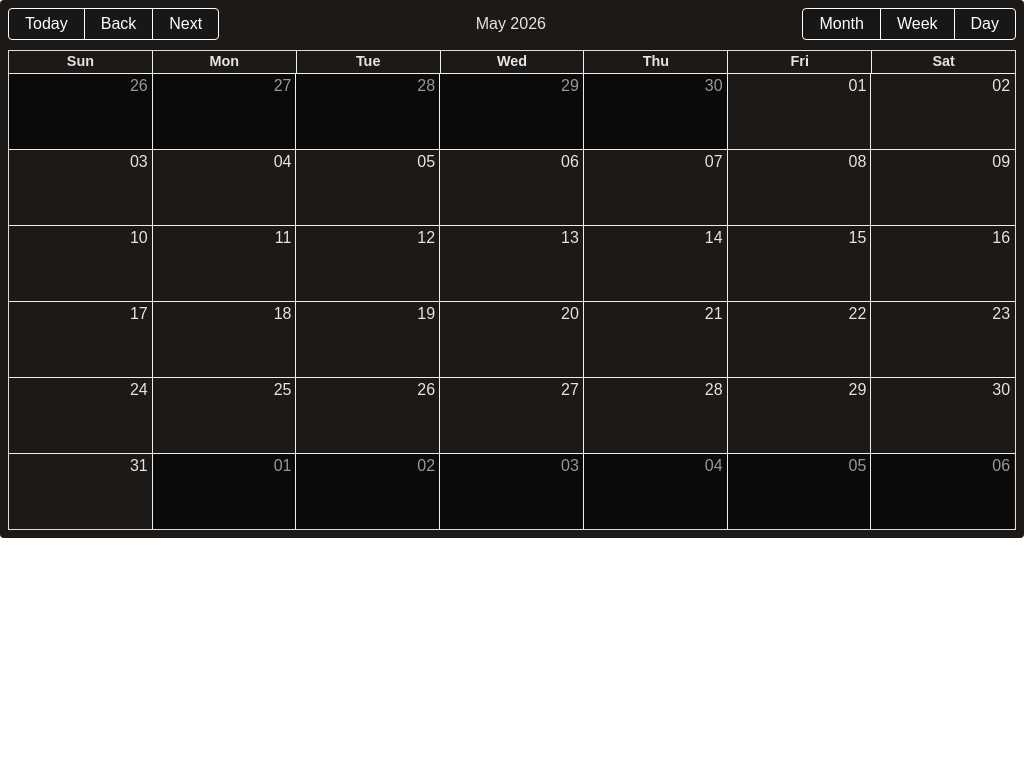
Test: MaintenanceCalendar › navigates months and changes view under Strict Mode
Expected: the text "May 2026" is shown, [476,15,546,32]
Click the button "Next". click: (186, 24)
box: [152,8,219,40]
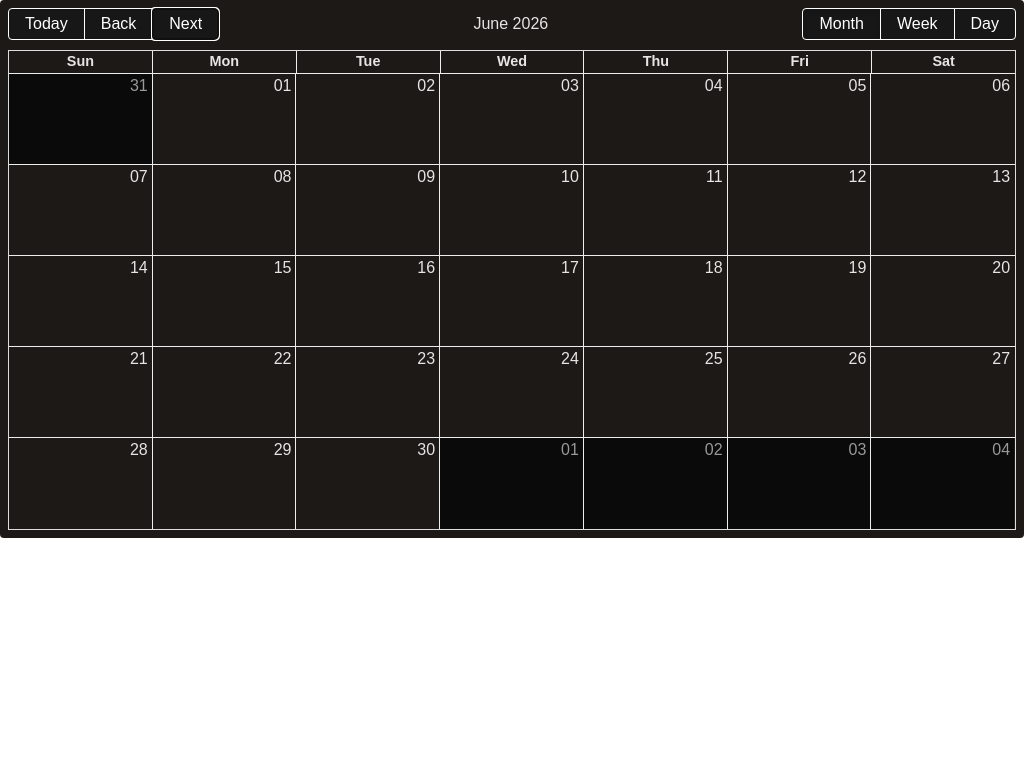
Result: the text "June 2026" is shown at [474,15,548,32]
Click the button "Week". click: (917, 24)
box: [880,8,954,40]
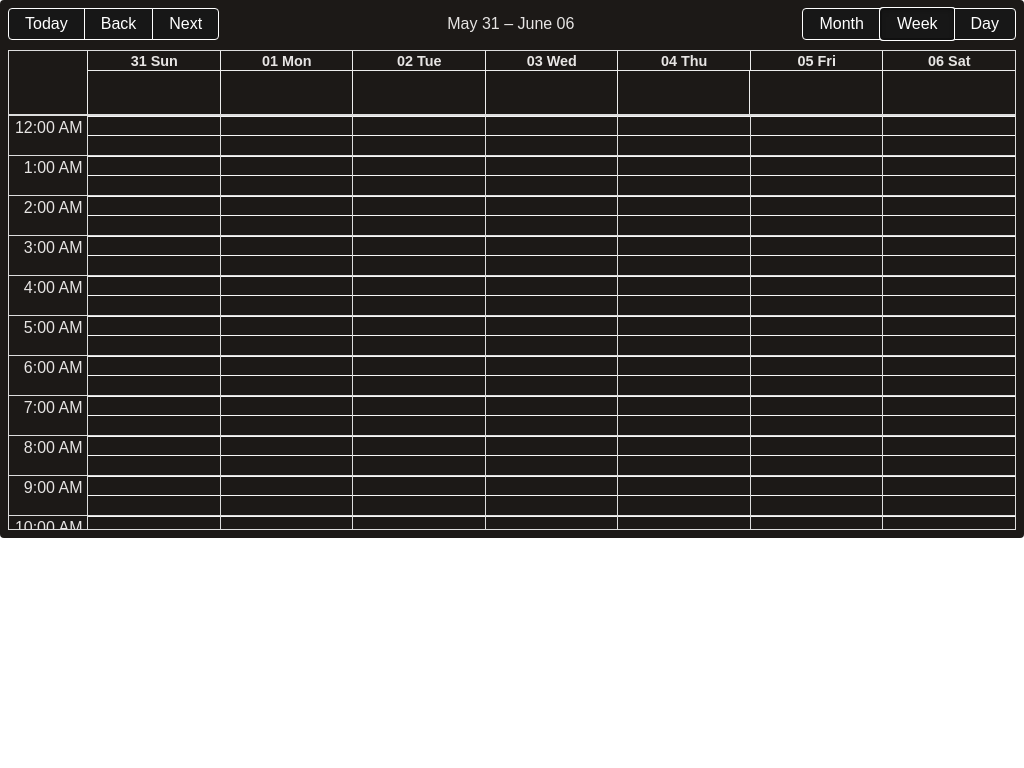
Result: the element with class "rbc-time-view" is shown
